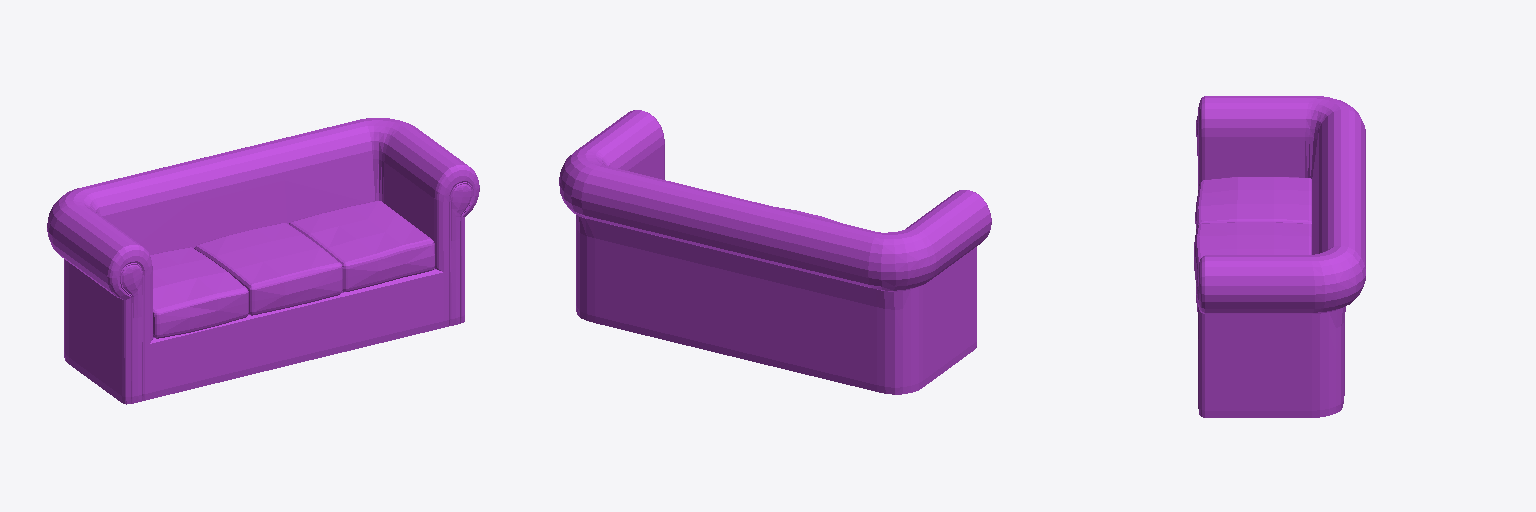
The model's file is couch_long.obj.
3 views of the same model, side by side, from view 1: azimuth 30°, elevation 25°; view 2: azimuth 150°, elevation 25°; view 3: azimuth 270°, elevation 25° (orthographic).
Visible parts, largest first — view 1: Couch_long; view 2: Couch_long; view 3: Couch_long.
Boxes of the visible parts, x1,y1,x2,y2 form: Couch_long: [47, 118, 479, 404]; Couch_long: [559, 110, 991, 394]; Couch_long: [1194, 96, 1365, 417].
Bounding box in the file's own units: 497 × 200 × 200.